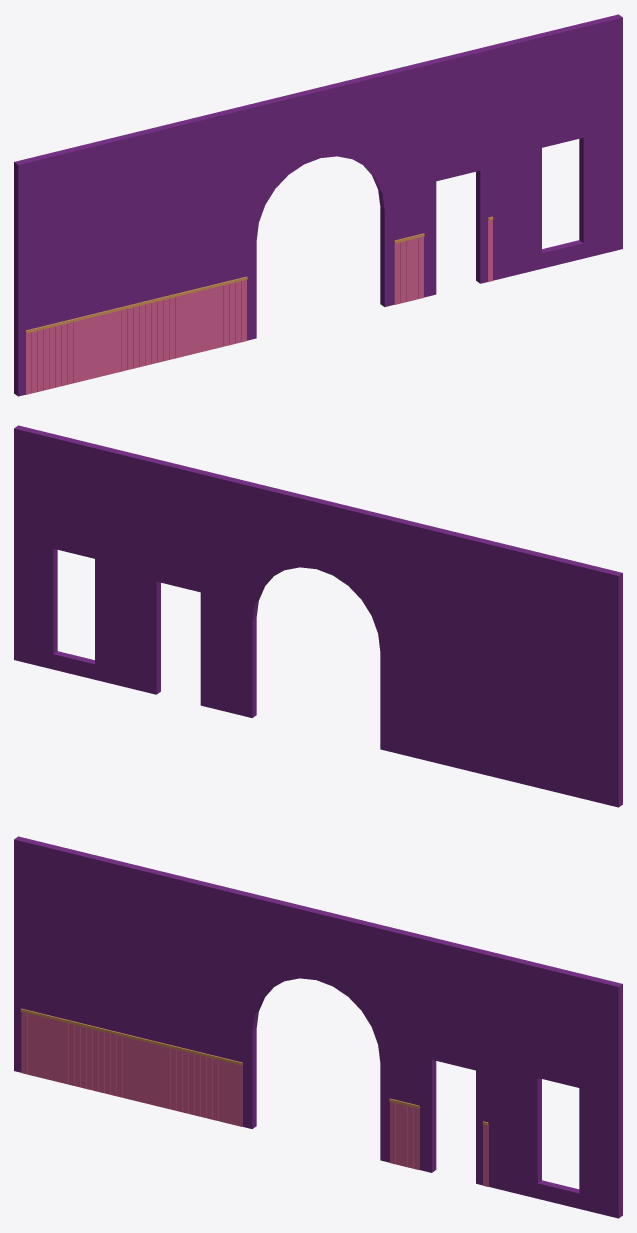
3 views of the same model, one above another, from view 1: azimuth 30°, elevation 25°; view 2: azimuth 150°, elevation 25°; view 3: azimuth 330°, elevation 25° (orthographic).
Visible parts, largest first — view 1: wall_b_a, wall_b_c, wall_b_arch_head, wall_b_b, wall_b_d, wall_b_door_head, wall_b_base_head, back_rail_0, wall_b_base_sill; view 2: wall_b_a, wall_b_c, wall_b_b, wall_b_arch_head, wall_b_d, wall_b_door_head, wall_b_base_head, wall_b_base_sill; view 3: wall_b_a, wall_b_c, wall_b_arch_head, wall_b_b, wall_b_d, wall_b_door_head, wall_b_base_head, back_rail_0, wall_b_base_sill.
Boxes of the visible parts, <box> form: wall_b_a: <box>14,104,256,396</box>; wall_b_c: <box>476,34,541,283</box>; wall_b_arch_head: <box>253,72,384,239</box>; wall_b_b: <box>380,60,436,306</box>; wall_b_d: <box>579,14,622,258</box>; wall_b_door_head: <box>432,49,480,181</box>; wall_b_base_head: <box>538,24,583,147</box>; back_rail_0: <box>25,276,247,333</box>; wall_b_base_sill: <box>542,240,583,268</box>; wall_b_a: <box>380,515,622,807</box>; wall_b_c: <box>95,445,160,694</box>; wall_b_b: <box>200,471,256,717</box>; wall_b_arch_head: <box>252,483,383,650</box>; wall_b_d: <box>14,425,57,669</box>; wall_b_door_head: <box>156,460,204,592</box>; wall_b_base_head: <box>53,435,98,558</box>; wall_b_base_sill: <box>53,651,94,679</box>; wall_b_a: <box>14,836,256,1128</box>; wall_b_c: <box>476,949,541,1198</box>; wall_b_arch_head: <box>252,894,383,1061</box>; wall_b_b: <box>380,926,436,1172</box>; wall_b_d: <box>579,974,622,1218</box>; wall_b_door_head: <box>432,938,479,1070</box>; wall_b_base_head: <box>537,964,582,1087</box>; back_rail_0: <box>20,1008,242,1065</box>; wall_b_base_sill: <box>537,1180,579,1208</box>.
Bounding box in the file's own units: 12.3 × 4.5 × 0.175.
